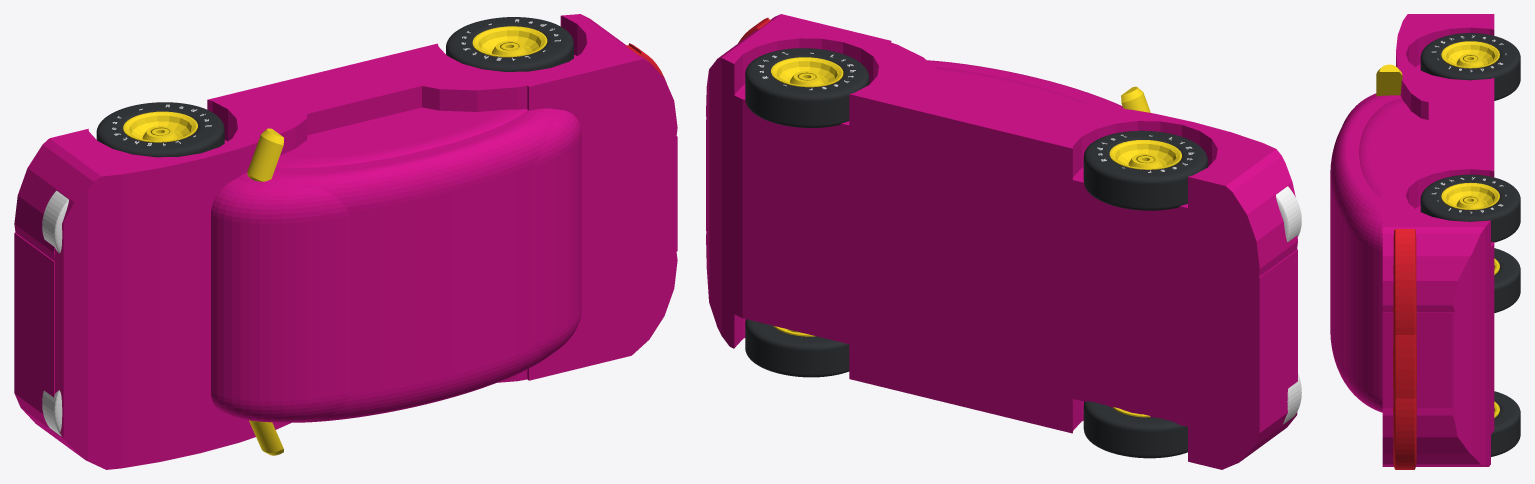
The model's file is tinker.obj.
3 renders of one model, left to right at view 1: azimuth 30°, elevation 25°; view 2: azimuth 150°, elevation 25°; view 3: azimuth 270°, elevation 25°, orthographic. The views are drawn at different scales.
Parts seen in each view (by area): view 1: group_0_14093196, group_0_2829873, group_0_16768282, group_0_16448250; view 2: group_0_14093196, group_0_2829873, group_0_16768282, group_0_16448250; view 3: group_0_14093196, group_0_2829873, group_0_15277357, group_0_16768282, group_0_16448250.
Part boxes in pixels (box(x1,y1,x2,y2)): group_0_14093196: box(14, 14, 677, 469); group_0_2829873: box(96, 17, 573, 157); group_0_16768282: box(123, 26, 547, 455); group_0_16448250: box(42, 19, 560, 436); group_0_14093196: box(706, 14, 1297, 469); group_0_2829873: box(745, 48, 1207, 458); group_0_16768282: box(771, 57, 1181, 417); group_0_16448250: box(758, 52, 1301, 424); group_0_14093196: box(1330, 14, 1494, 466); group_0_2829873: box(1420, 33, 1520, 456); group_0_15277357: box(1393, 229, 1416, 469); group_0_16768282: box(1376, 41, 1499, 417); group_0_16448250: box(1431, 35, 1506, 213).
Bounding box in the file's own units: 88.25 × 45.04 × 29.
